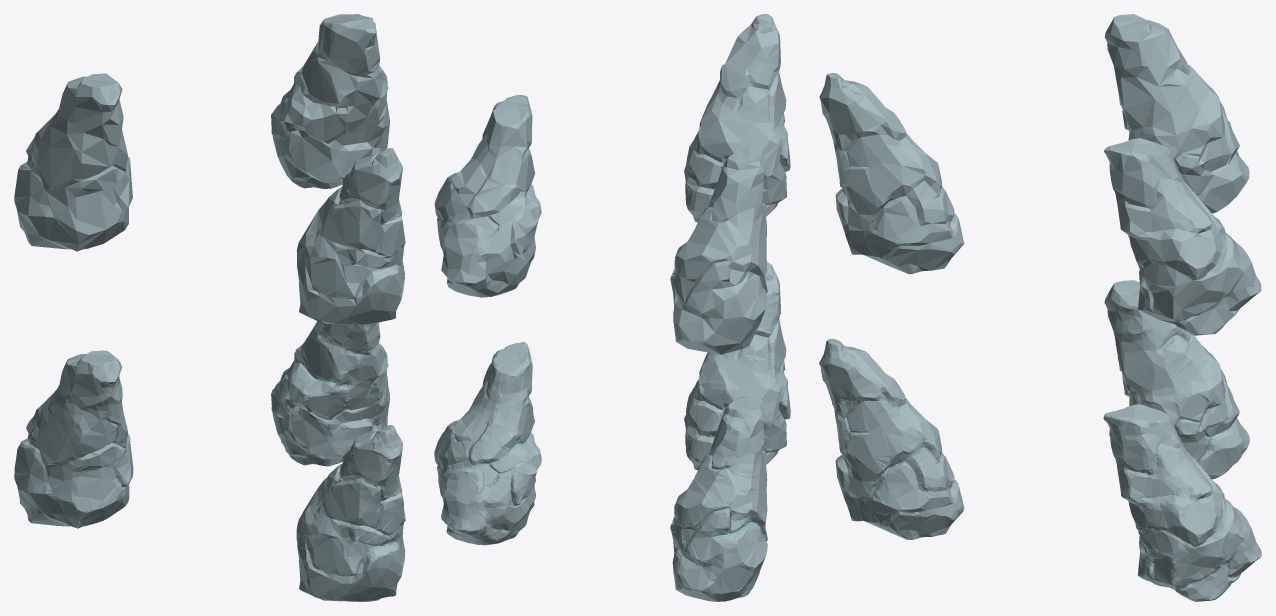
Rendered from BigDriftRocks.dae.
3 renders of one model, left to right at view 1: azimuth 30°, elevation 25°; view 2: azimuth 150°, elevation 25°; view 3: azimuth 270°, elevation 25°, orthographic. The views are drawn at different scales.
Visible parts, largest first — view 1: BigDriftRock2, BigDriftRock2Col, BigDriftRock1Col, BigDriftRock3, BigDriftRock3Col, BigDriftRock1; view 2: BigDriftRock1, BigDriftRock1Col, BigDriftRock2, BigDriftRock2Col, BigDriftRock3Col, BigDriftRock3; view 3: BigDriftRock1Col, BigDriftRock1, BigDriftRock3, BigDriftRock3Col, BigDriftRock2Col, BigDriftRock2.
Part boxes in pixels (x1,y1,x2,y2): BigDriftRock2: (14,350,133,528); BigDriftRock2Col: (14,73,132,251); BigDriftRock1Col: (271,14,389,188); BigDriftRock3: (296,425,405,601); BigDriftRock3Col: (296,148,405,324); BigDriftRock1: (271,321,389,466); BigDriftRock1: (434,342,541,545); BigDriftRock1Col: (434,95,541,297); BigDriftRock2: (670,396,767,601); BigDriftRock2Col: (670,148,767,354); BigDriftRock3Col: (684,14,790,222); BigDriftRock3: (684,262,790,470); BigDriftRock1Col: (1104,138,1261,335); BigDriftRock1: (1103,404,1261,601); BigDriftRock3: (819,338,964,539); BigDriftRock3Col: (819,73,964,274); BigDriftRock2Col: (1104,14,1249,213); BigDriftRock2: (1104,280,1249,479).
Bounding box in the file's own units: 11.25 × 12.41 × 14.16.
